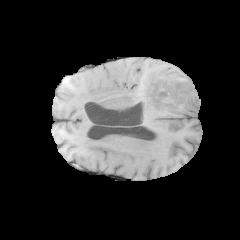glioma: (139, 69, 199, 115)
